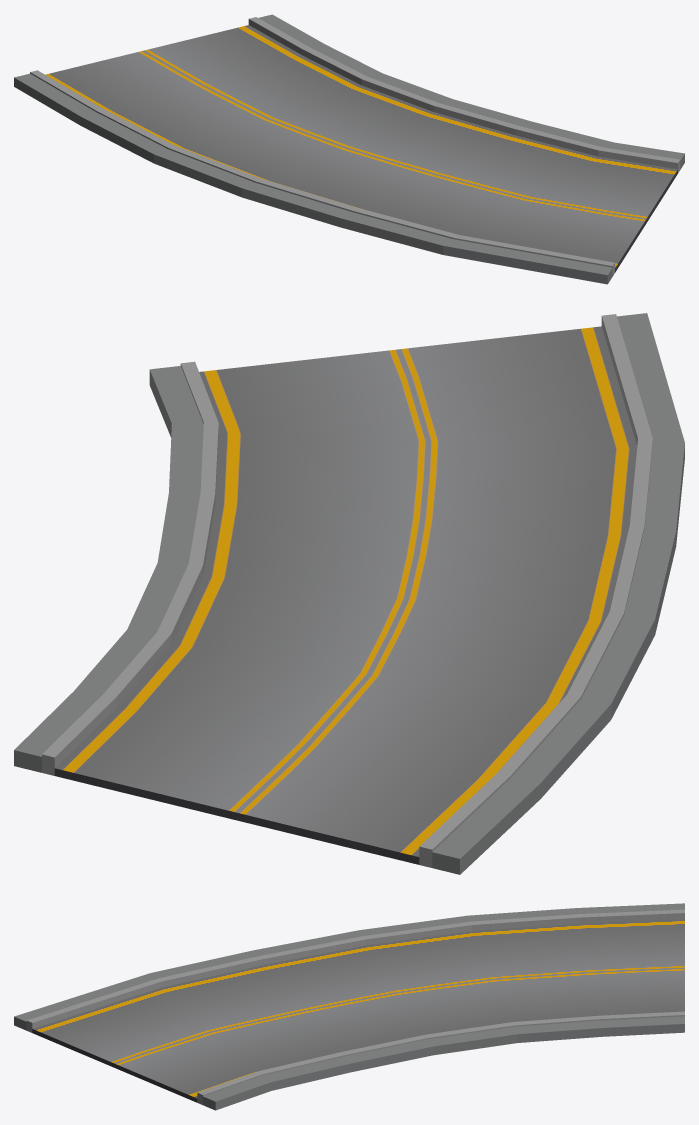
Rendered from Road1_Curve2.dae.
3 renders of one model, top to bottom at view 1: azimuth 30°, elevation 25°; view 2: azimuth 150°, elevation 25°; view 3: azimuth 270°, elevation 25°, orthographic. The views are drawn at different scales.
Visible parts, largest first — view 1: Road1_Curve2; view 2: Road1_Curve2; view 3: Road1_Curve2.
Part boxes in pixels (x1,y1,x2,y2): Road1_Curve2: [14, 14, 684, 284]; Road1_Curve2: [14, 313, 684, 874]; Road1_Curve2: [14, 903, 684, 1110].
Size of the model in its own units: 19.76 by 28.24 by 0.4753.
Materials: 1 (1 with a texture image).
